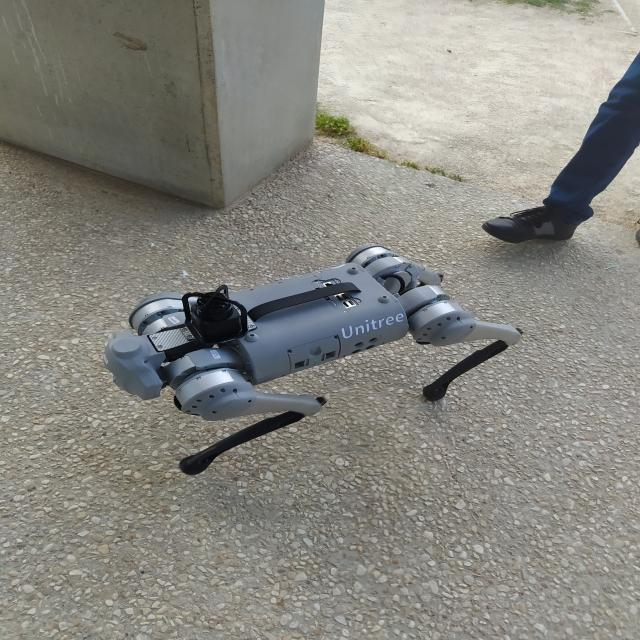unitree-go1-robot: (97, 235, 531, 490)
